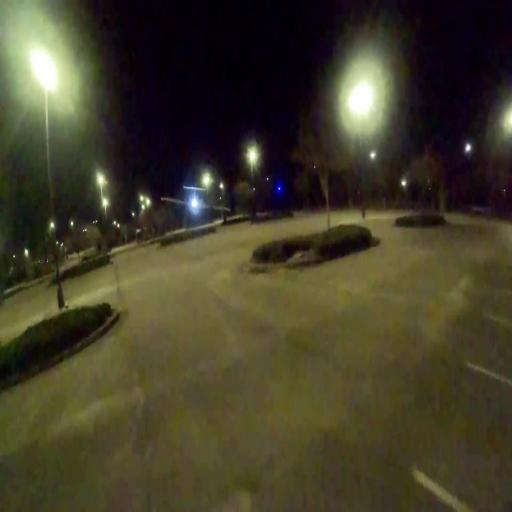uav: (160, 179, 232, 221)
